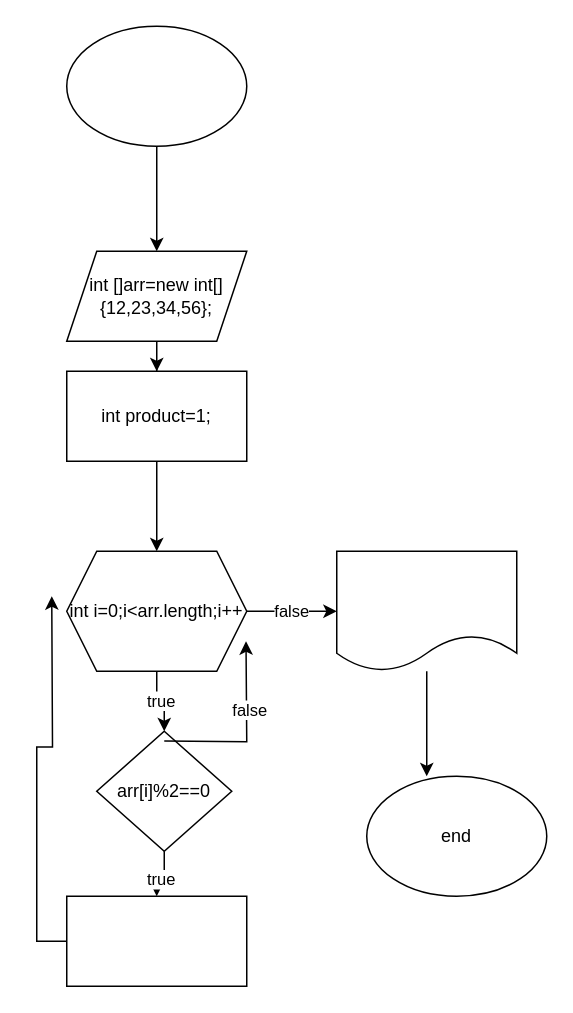
Some shapes in this 573 by 1013 pixel diagram are drawn without their labels. The shapes that lost their labels are listed below. From the top down, each one's centre as x and y in pixels, then its label:
At [156,85]: "start".
At [426,610]: "product".
At [156,940]: "product*=arr[i];".
